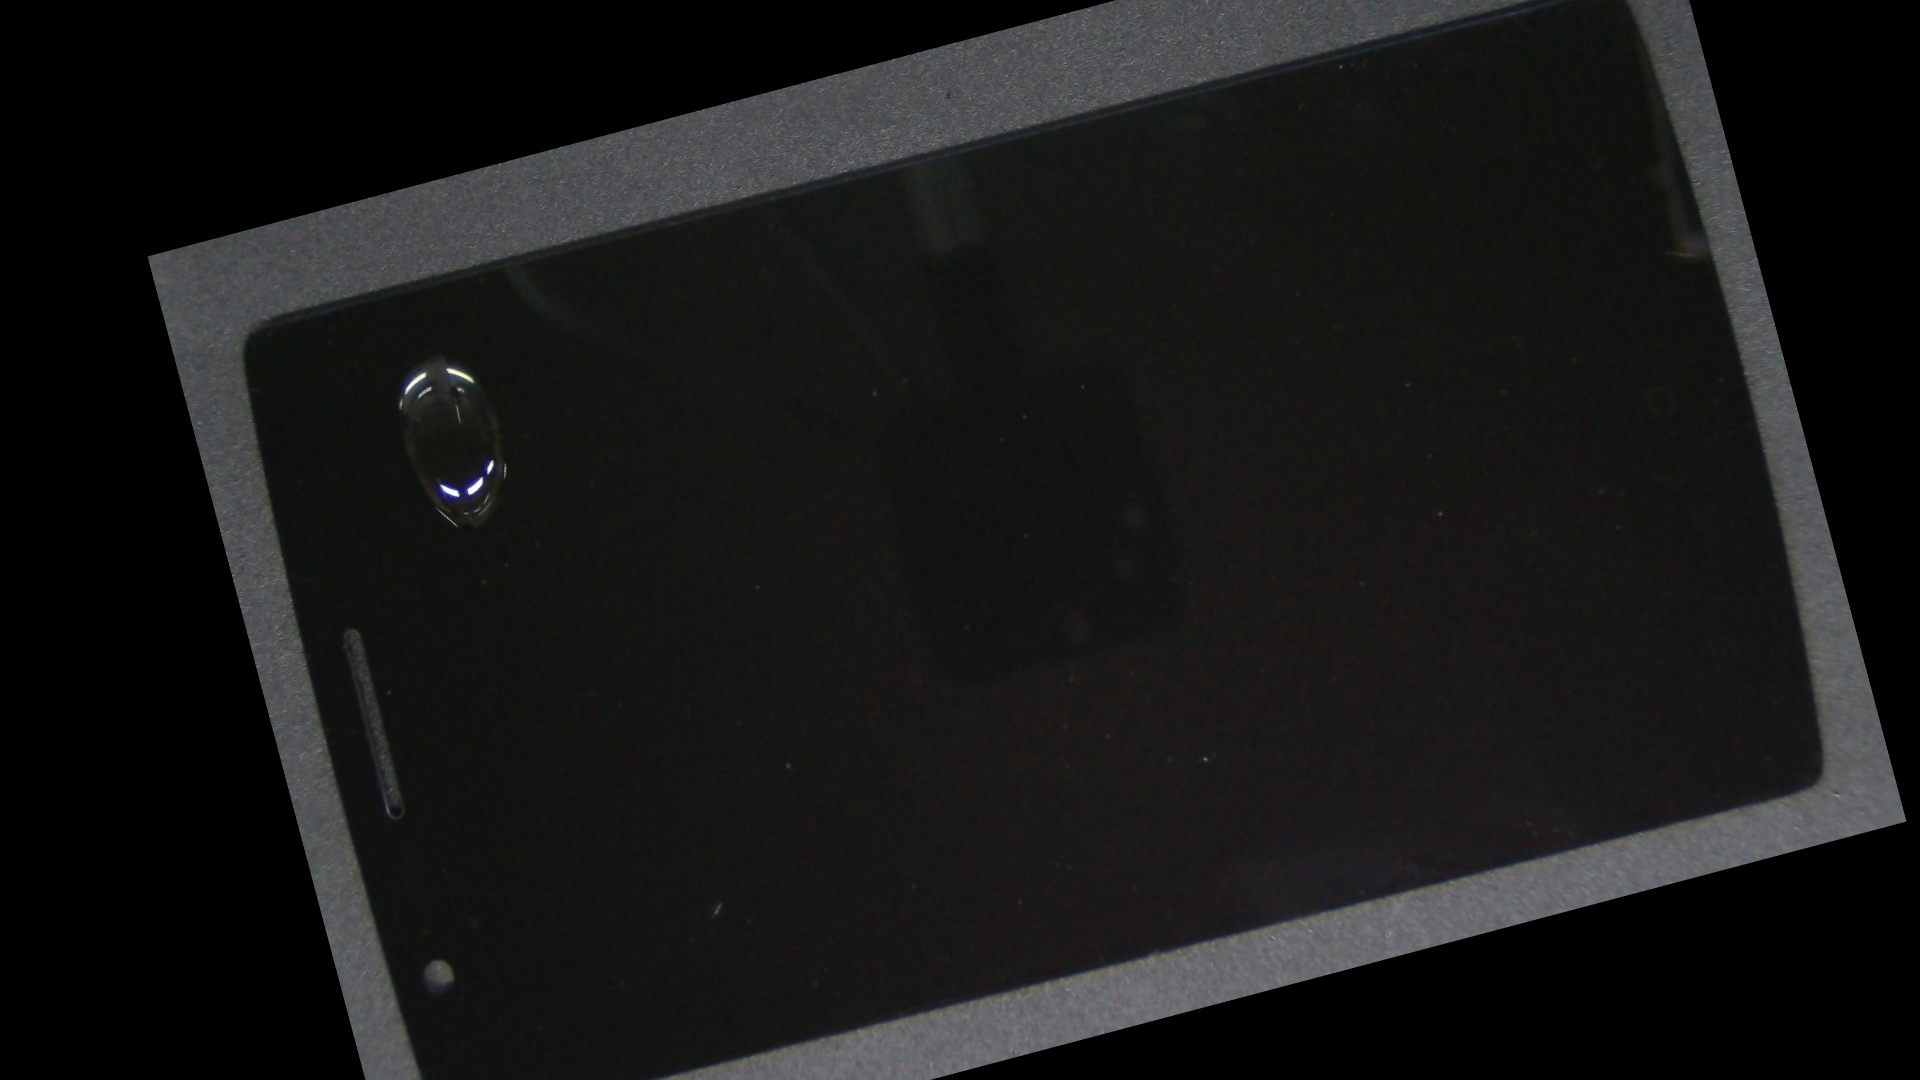oil: (290, 243, 576, 473)
